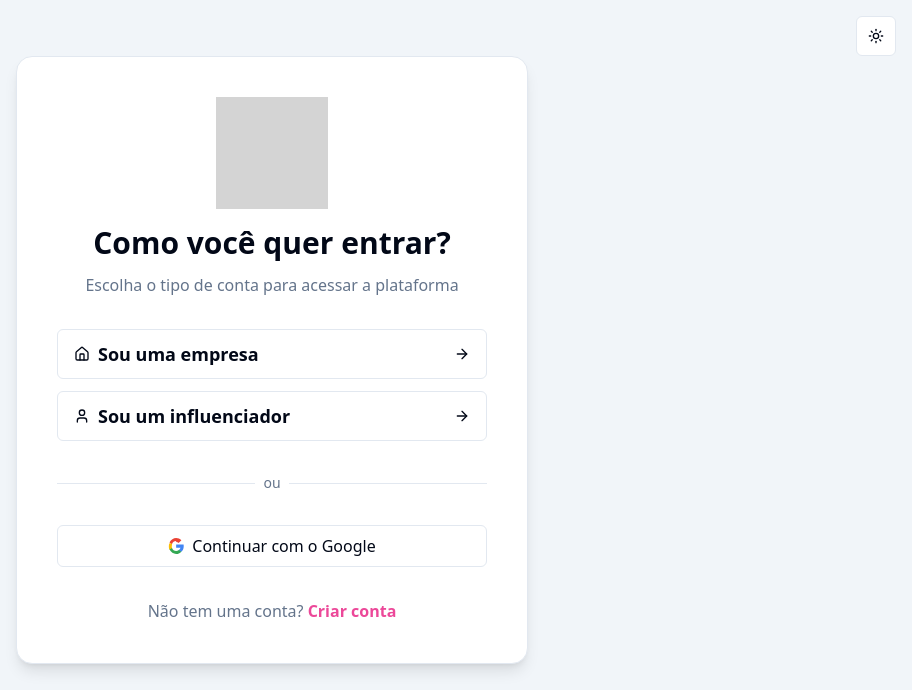
Scenario: AuthStep › Theme Functionality › handles theme toggle dropdown interactions
Note: Open the dropdown
Click the button named "toggle theme".
click(876, 36)  # box [856,16,896,56]
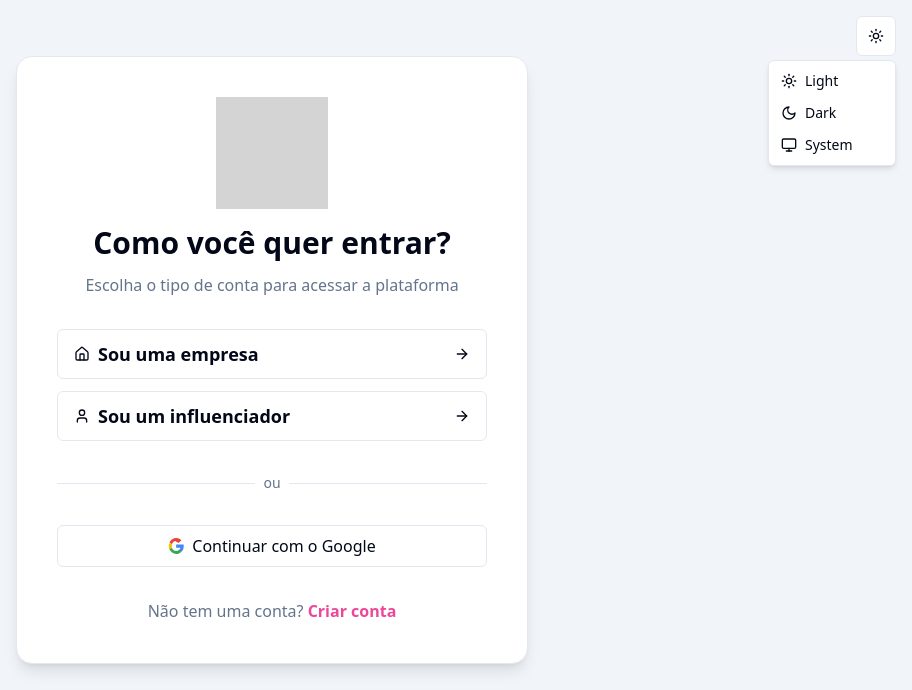
Result: the text "Light" is shown at [805,71,838,91]
Result: the text "Dark" is shown at [805,103,836,123]
Result: the text "System" is shown at [805,135,853,155]
